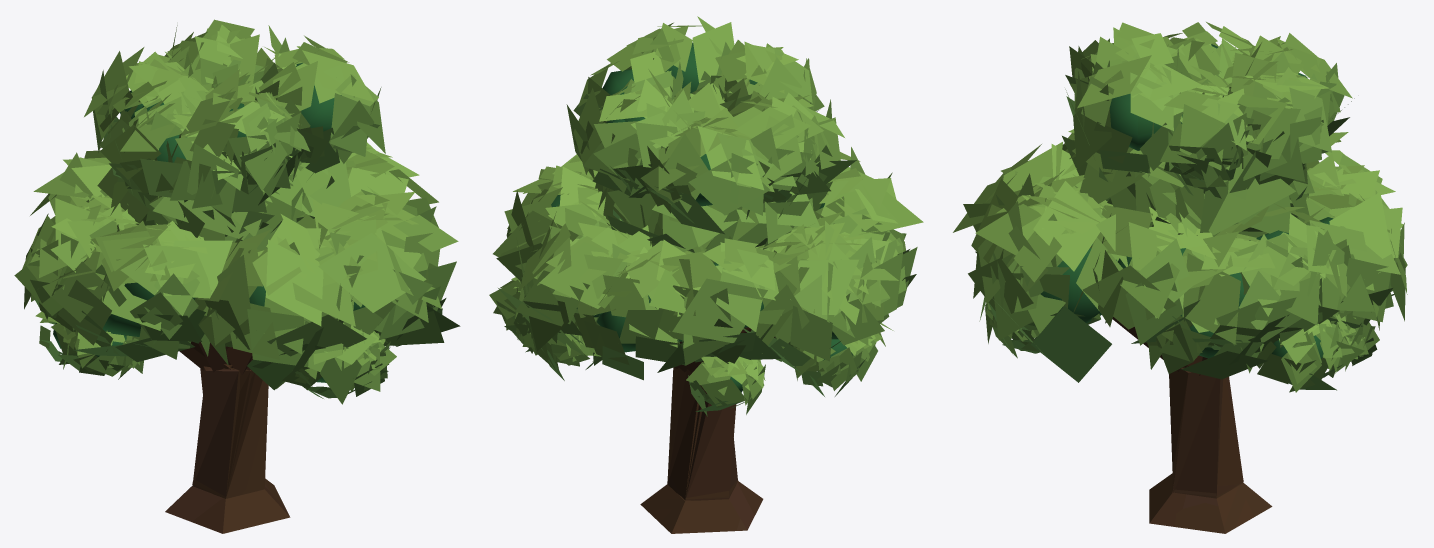
File: broadleaf.glb
3 renders of one model, left to right at view 1: azimuth 30°, elevation 25°; view 2: azimuth 150°, elevation 25°; view 3: azimuth 270°, elevation 25°, orthographic. The views are drawn at different scales.
Visible parts, largest first — view 1: broadleaf-a, broadleaf-c, broadleaf-b; view 2: broadleaf-a, broadleaf-c, broadleaf-b; view 3: broadleaf-b, broadleaf-a, broadleaf-c.
Boxes of the visible parts, x1,y1,x2,y2 form: broadleaf-a: (24, 19, 441, 533); broadleaf-c: (14, 47, 438, 533); broadleaf-b: (30, 24, 460, 521); broadleaf-a: (498, 16, 898, 532); broadleaf-c: (493, 40, 923, 530); broadleaf-b: (489, 41, 917, 533); broadleaf-b: (953, 22, 1393, 516); broadleaf-a: (971, 22, 1407, 533); broadleaf-c: (984, 22, 1407, 533).
Bounding box in the file's own units: 1.33 × 1.5 × 1.34.
